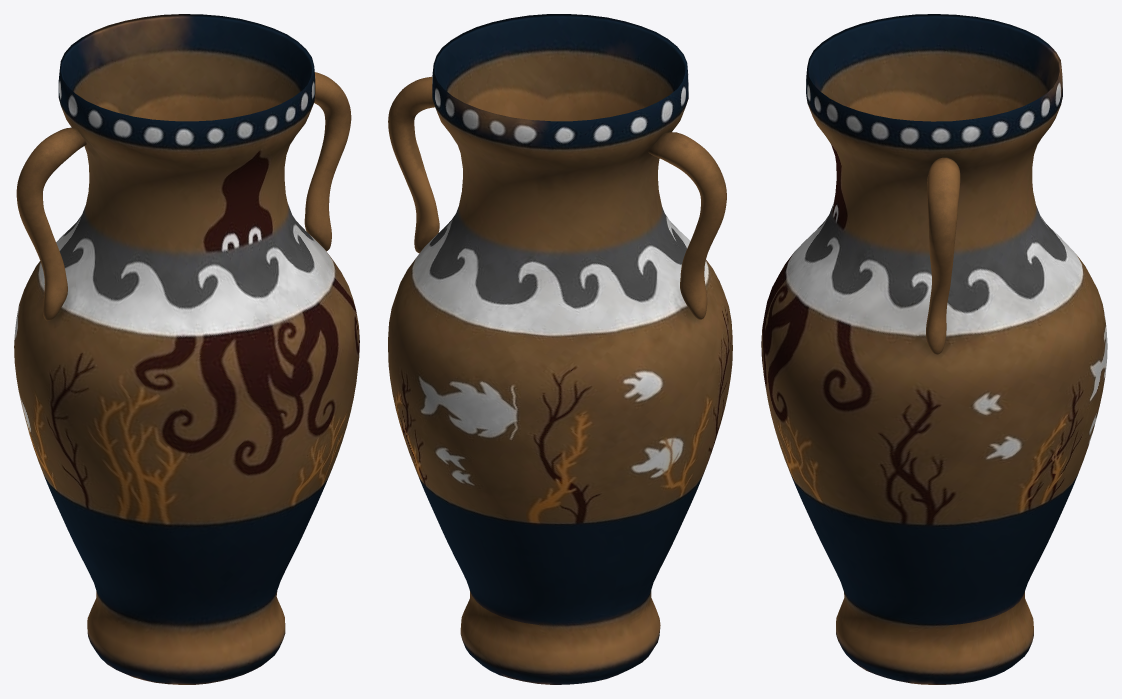
The model's file is mdl_Krank_Souvenir.gltf.
3 views of the same model, side by side, from view 1: azimuth 30°, elevation 25°; view 2: azimuth 150°, elevation 25°; view 3: azimuth 270°, elevation 25° (orthographic).
Visible parts, largest first — view 1: MorphDiff_PM3D_PolySphere_2_0, MorphDiff_PM3D_PolySphere_2_001_1; view 2: MorphDiff_PM3D_PolySphere_2_0, MorphDiff_PM3D_PolySphere_2_001_1; view 3: MorphDiff_PM3D_PolySphere_2_0, MorphDiff_PM3D_PolySphere_2_001_1.
Part boxes in pixels (<box>): MorphDiff_PM3D_PolySphere_2_0: <box>14,14,359,684</box>; MorphDiff_PM3D_PolySphere_2_001_1: <box>16,72,351,320</box>; MorphDiff_PM3D_PolySphere_2_0: <box>388,14,732,684</box>; MorphDiff_PM3D_PolySphere_2_001_1: <box>388,76,726,319</box>; MorphDiff_PM3D_PolySphere_2_0: <box>761,14,1107,684</box>; MorphDiff_PM3D_PolySphere_2_001_1: <box>926,157,960,354</box>.
Size of the model in its own units: 178 by 300 by 160.
Materials: 2 (2 with a texture image).
